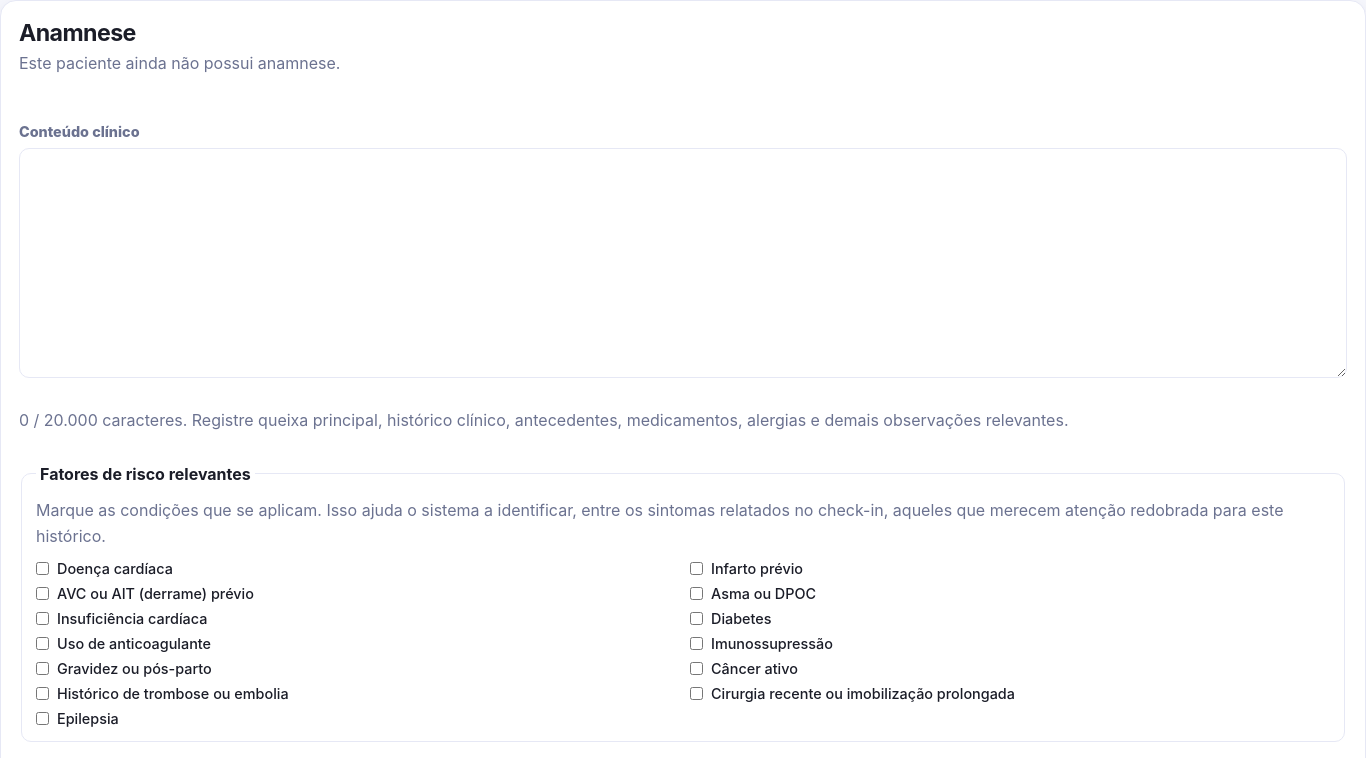
Test: anamnese do profissional › trata GET 404 como ausência e cria a primeira anamnese com POST
Expected: the text "Este paciente ainda não possui anamnese." is shown, 19,51 -> 340,77
Type " Primeira anamnese " into the text box labelled "Conteúdo clínico" at (683, 263), box 19,148 -> 1347,378
(page scrolled)
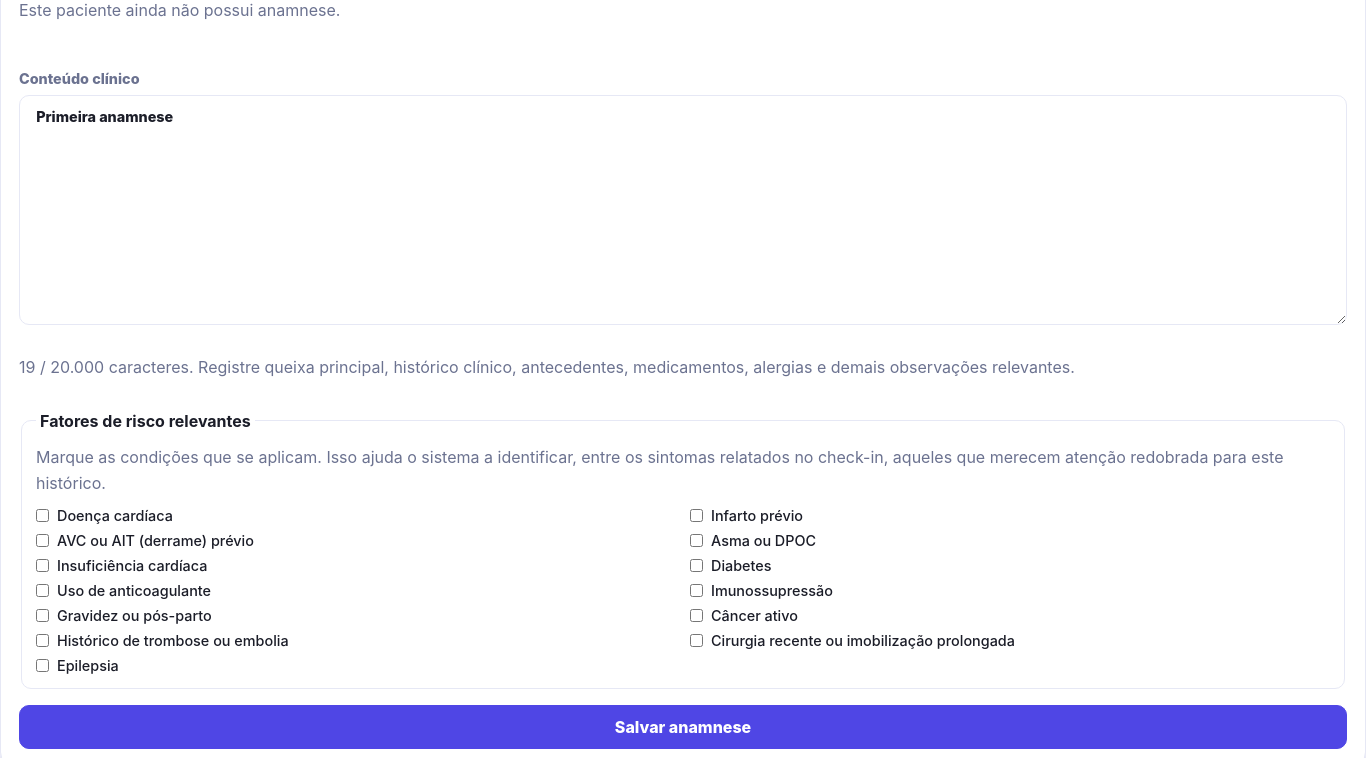
Click the button "Salvar anamnese" at (683, 727), box 19,705 -> 1347,749
(page scrolled)
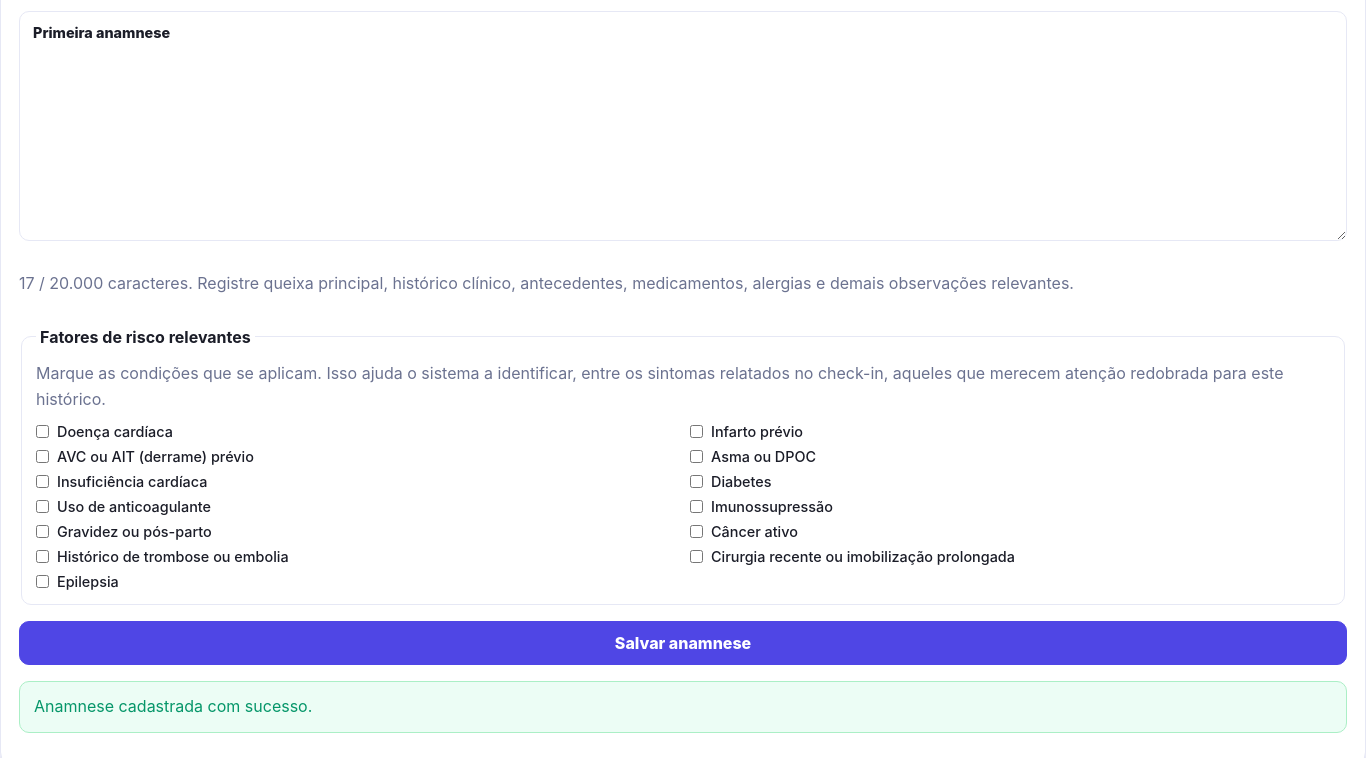
Result: the text "Anamnese cadastrada com sucesso." is shown at 19,681 -> 1347,732
